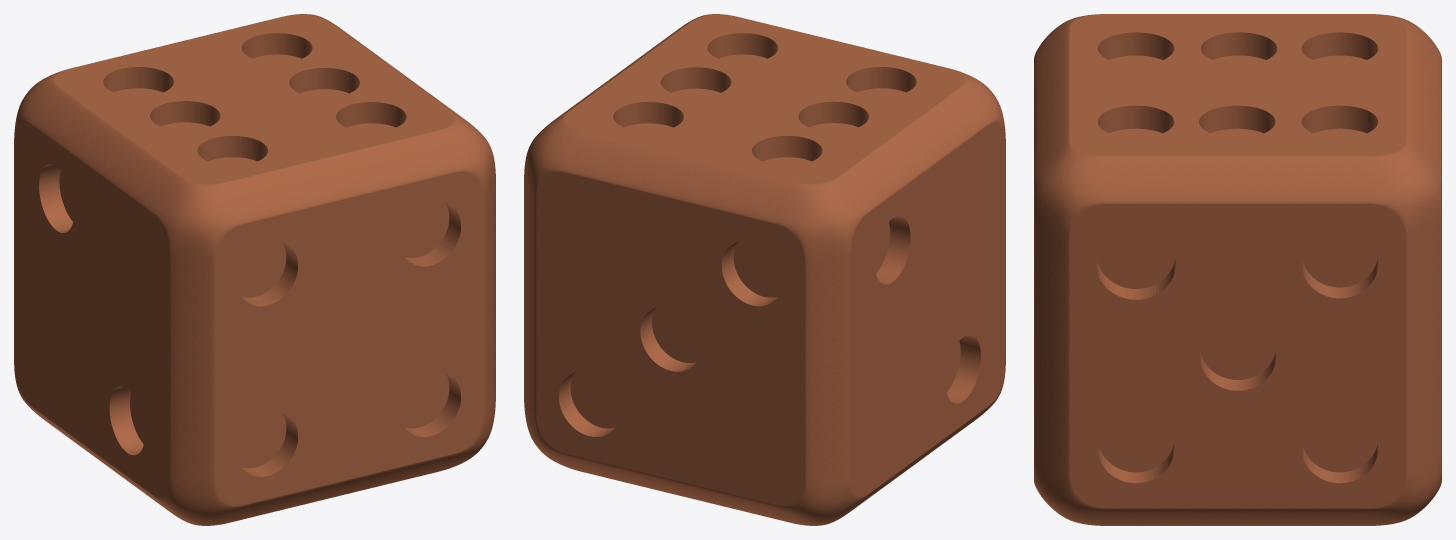
File: big-die.glb
3 renders of one model, left to right at view 1: azimuth 30°, elevation 25°; view 2: azimuth 150°, elevation 25°; view 3: azimuth 270°, elevation 25°, orthographic. The views are drawn at different scales.
Parts seen in each view (by area): view 1: Dice v3.step_fil1; view 2: Dice v3.step_fil1; view 3: Dice v3.step_fil1.
Boxes of the visible parts, left/top/right/bottom form: Dice v3.step_fil1: left=14, top=14, right=495, bottom=525; Dice v3.step_fil1: left=524, top=14, right=1005, bottom=525; Dice v3.step_fil1: left=1034, top=14, right=1441, bottom=525.
Size of the model in its own units: 0.016 by 0.016 by 0.016.
